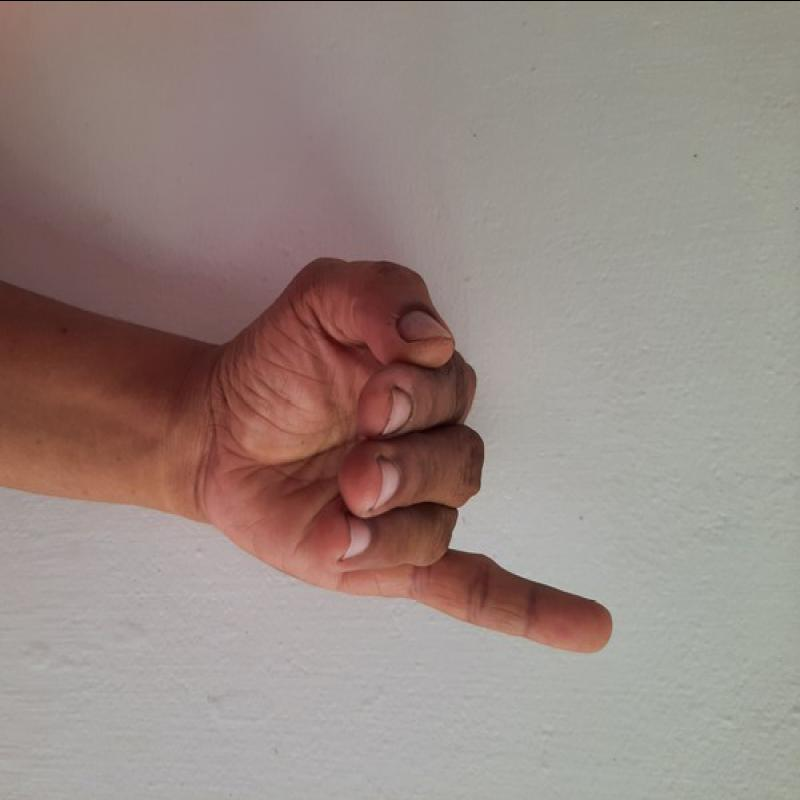Kartharee Mukham: (202, 243, 624, 680)
